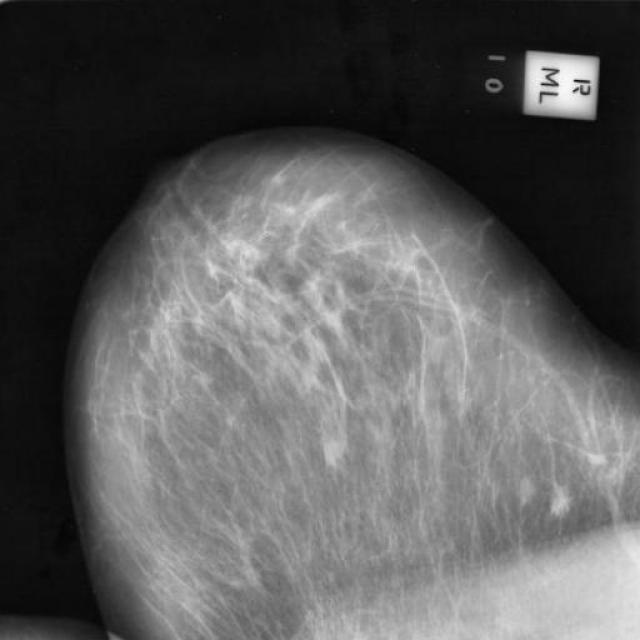cancer: (312, 418, 354, 478), (540, 482, 574, 528)
